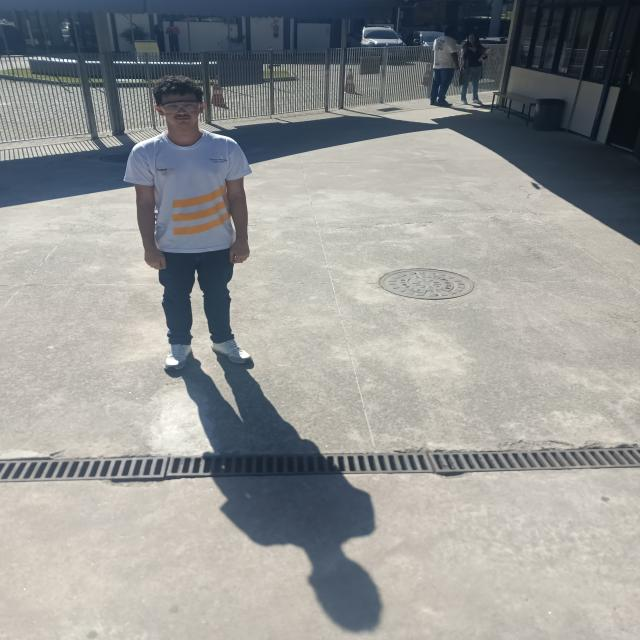oculos-epi: (159, 101, 200, 113)
